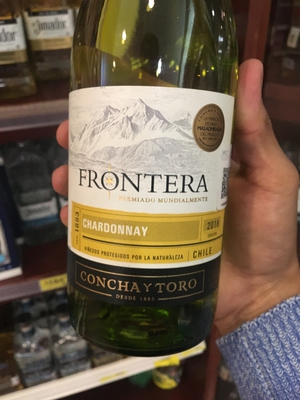frontera chardonnay: (55, 9, 241, 350)
